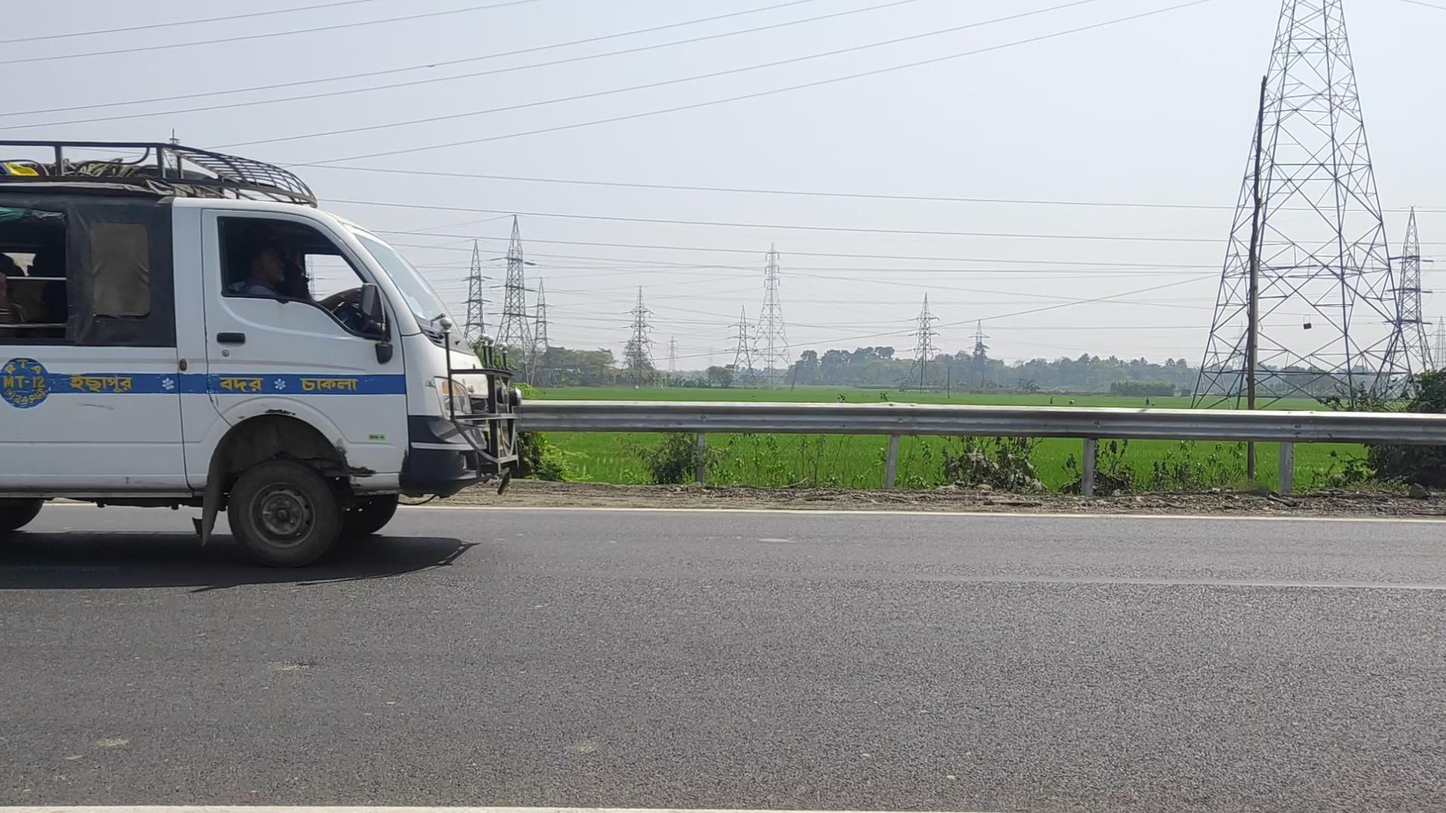van: (1, 138, 526, 568)
